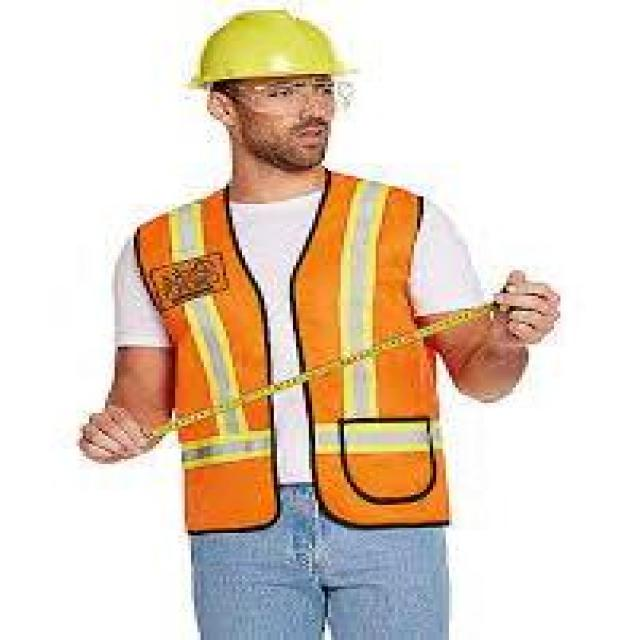Reflective-Jacket: (124, 168, 462, 533)
Safety-Helmet: (178, 2, 366, 97)
